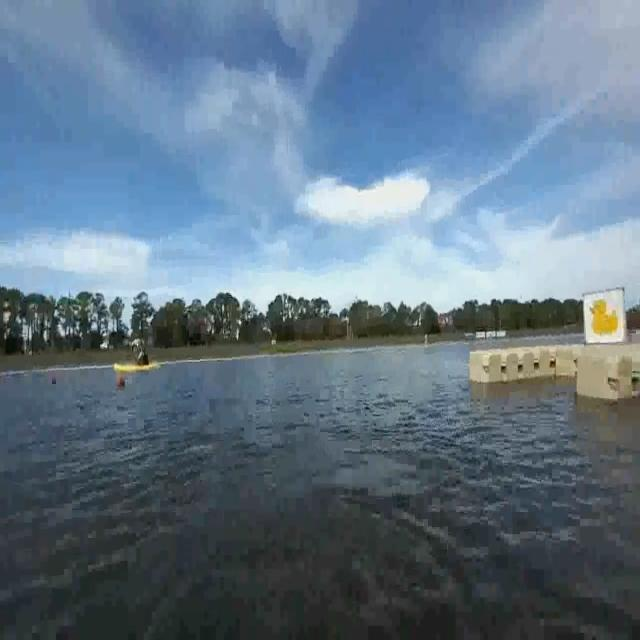yellow-duck: (590, 295, 620, 338)
